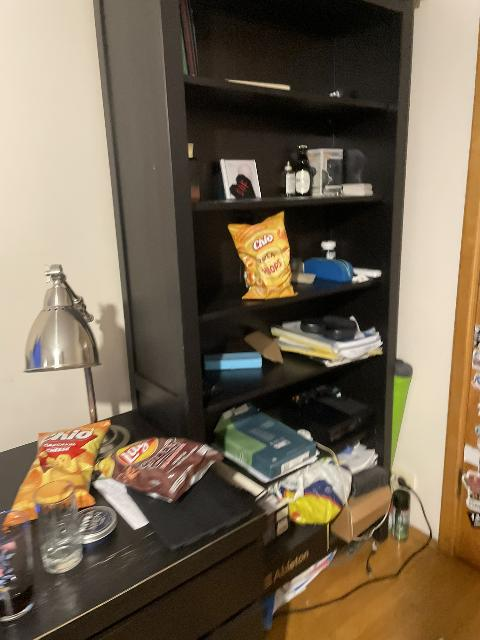Chio Cascaval 125g: (2, 417, 114, 529)
Chio Hula Hoops Cheese 70g: (226, 211, 297, 302)
Lays Beef Grilled Ribs 125g: (108, 437, 219, 504)
